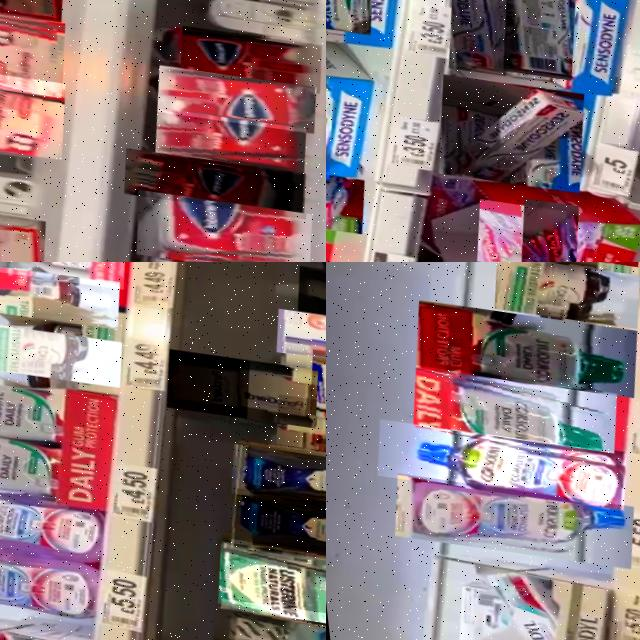Mouthwash: (200, 535, 326, 640), (216, 485, 326, 580), (218, 441, 326, 530), (199, 593, 326, 640)
Other: (379, 470, 630, 572), (364, 415, 623, 513), (404, 297, 638, 401), (401, 362, 616, 456), (109, 146, 300, 222), (118, 187, 306, 262), (144, 63, 311, 136), (140, 106, 301, 178), (168, 23, 320, 95), (485, 262, 640, 331), (0, 469, 103, 568), (0, 531, 100, 630), (0, 361, 102, 455), (0, 320, 121, 389), (0, 265, 121, 331), (0, 417, 83, 508), (220, 358, 317, 430), (155, 348, 250, 420), (0, 65, 63, 161), (0, 6, 65, 98), (264, 392, 326, 472), (267, 306, 326, 382), (0, 262, 128, 291), (289, 263, 326, 336), (297, 348, 326, 439)
Toothpaste: (418, 72, 583, 195), (451, 565, 599, 640), (457, 198, 559, 262), (497, 197, 574, 262), (326, 167, 357, 234)
